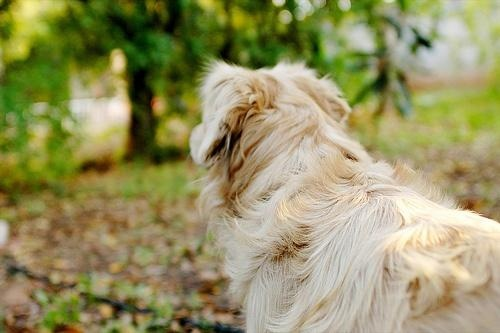dog: (185, 55, 500, 332)
